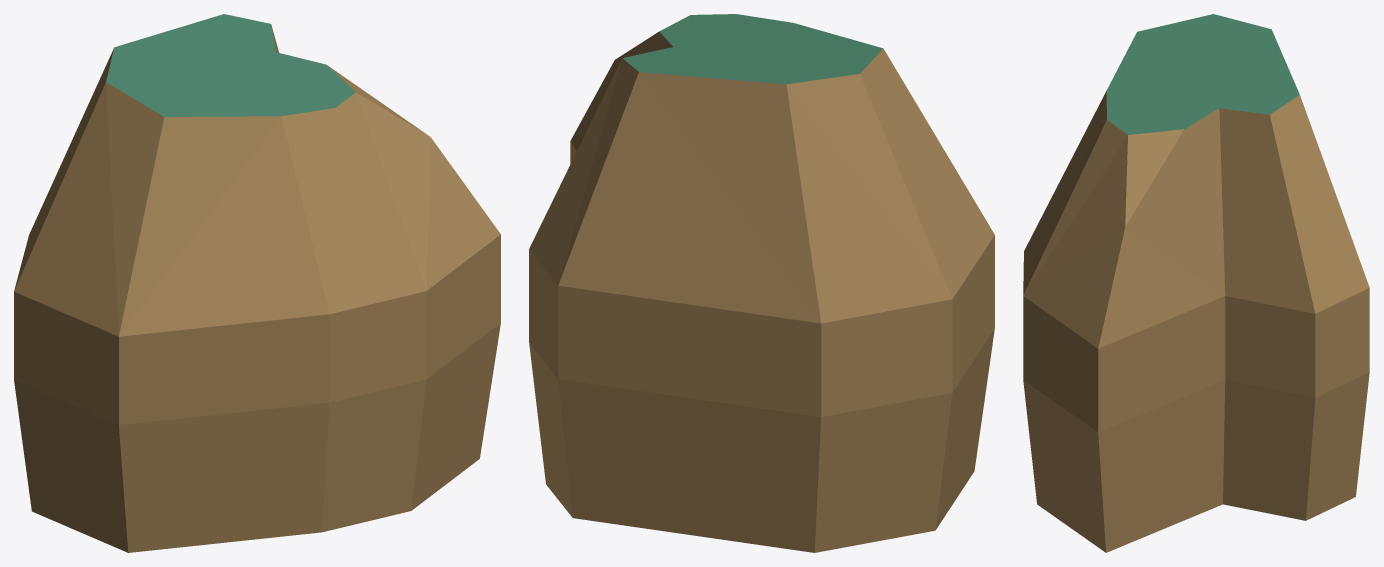
The model's file is Rock_Large_Mesa_Eroded_Moss_Grass_11.FBX.
3 renders of one model, left to right at view 1: azimuth 30°, elevation 25°; view 2: azimuth 150°, elevation 25°; view 3: azimuth 270°, elevation 25°, orthographic. The views are drawn at different scales.
Visible parts, largest first — view 1: Rock_Large_Mesa_Eroded_Moss_Grass_11; view 2: Rock_Large_Mesa_Eroded_Moss_Grass_11; view 3: Rock_Large_Mesa_Eroded_Moss_Grass_11.
Boxes of the visible parts, x1,y1,x2,y2 form: Rock_Large_Mesa_Eroded_Moss_Grass_11: [14, 14, 500, 552]; Rock_Large_Mesa_Eroded_Moss_Grass_11: [529, 14, 994, 552]; Rock_Large_Mesa_Eroded_Moss_Grass_11: [1023, 14, 1369, 552].
Bounding box in the file's own units: 5614 × 5260 × 4185.
